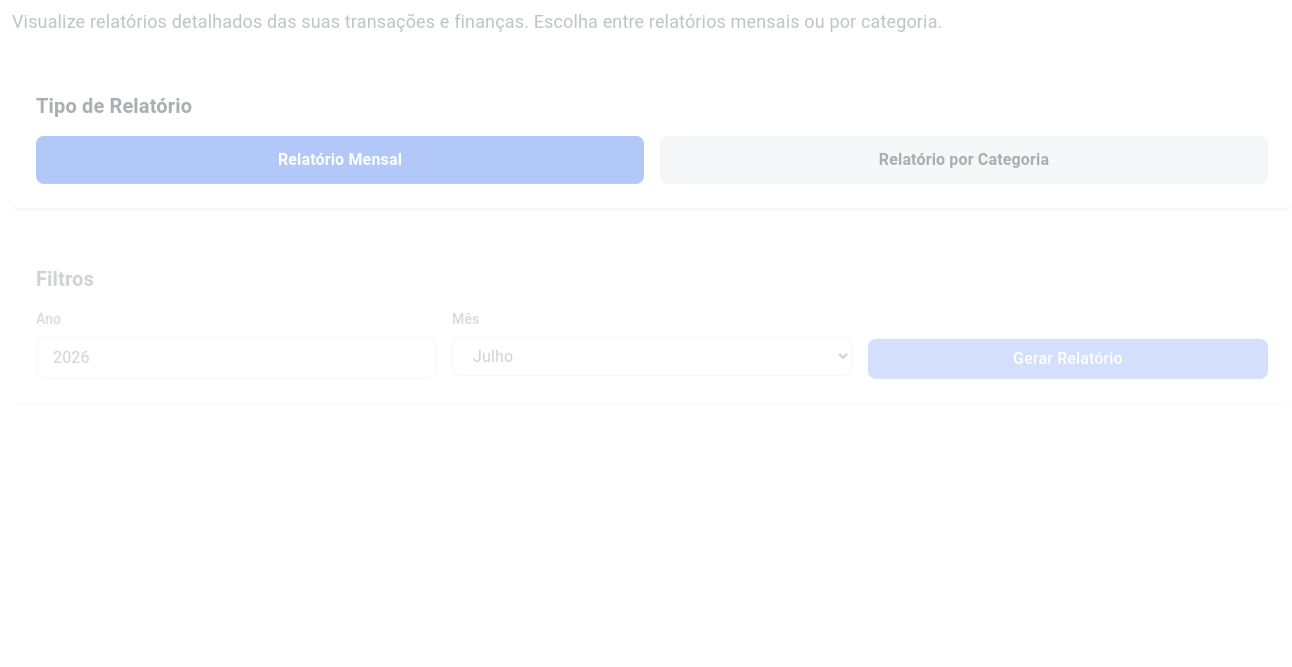
Test: ReportsPage Component › ReportsPage Component › should display no transactions message when list is empty
Click the button "Gerar Relatório".
click(1068, 359)  # box [868, 339, 1268, 379]
(page scrolled)
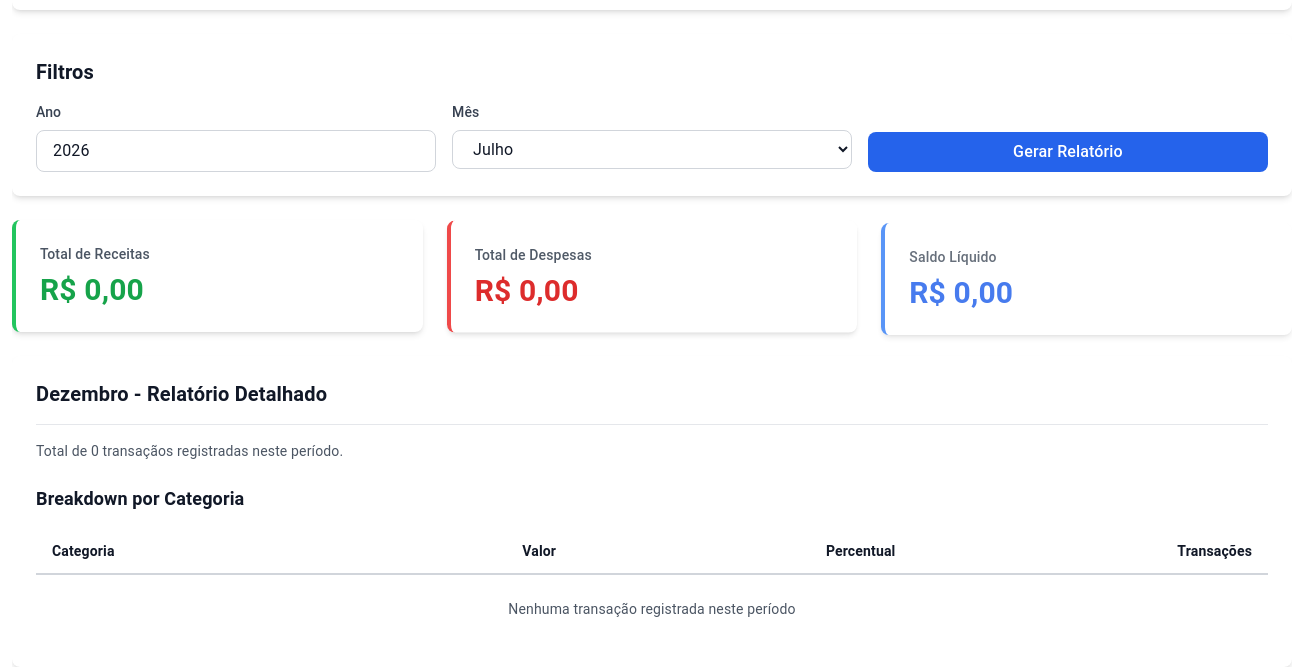
Check: the text "Nenhuma transação registrada neste período" is shown, box [36, 574, 1268, 643]
